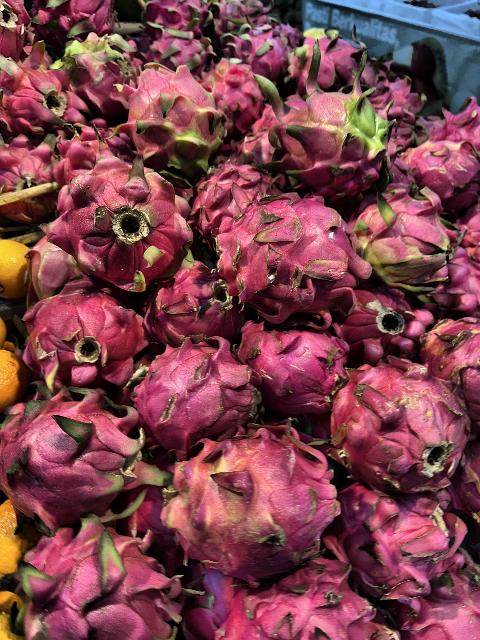buah-naga-belum-matang: (159, 438, 339, 558), (250, 60, 398, 192), (342, 175, 450, 289), (118, 63, 228, 173), (64, 34, 142, 114), (408, 134, 480, 208)
buah-naga-matang: (10, 524, 190, 640), (0, 399, 162, 526), (56, 143, 196, 284), (222, 187, 360, 307), (334, 358, 466, 480), (342, 480, 470, 604), (17, 293, 151, 399), (131, 328, 253, 442), (242, 306, 356, 412), (230, 562, 374, 640), (142, 261, 234, 345), (0, 58, 86, 136), (420, 312, 480, 404), (302, 24, 362, 90), (50, 1, 123, 34)
